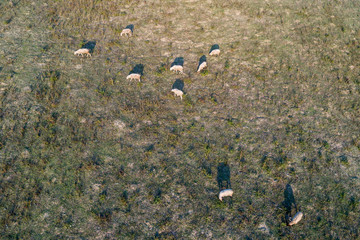sheep: (286, 210, 304, 226), (126, 69, 144, 84), (73, 46, 93, 59), (216, 188, 235, 201), (118, 26, 135, 39), (169, 63, 185, 75), (170, 87, 185, 99), (196, 61, 209, 73), (207, 47, 222, 56)
